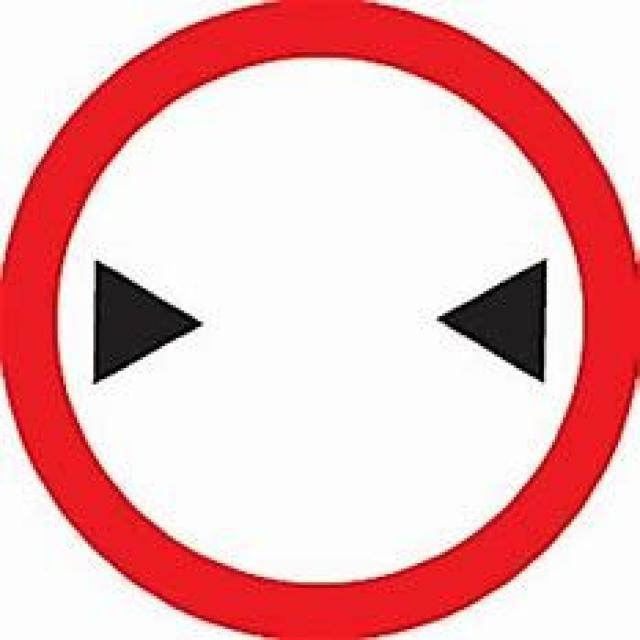width limit: (29, 27, 612, 624)
